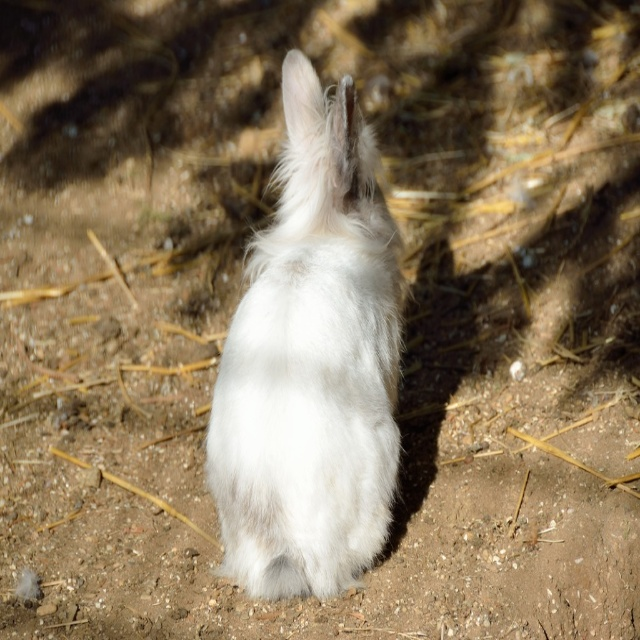Rabbit: (201, 46, 406, 600)
